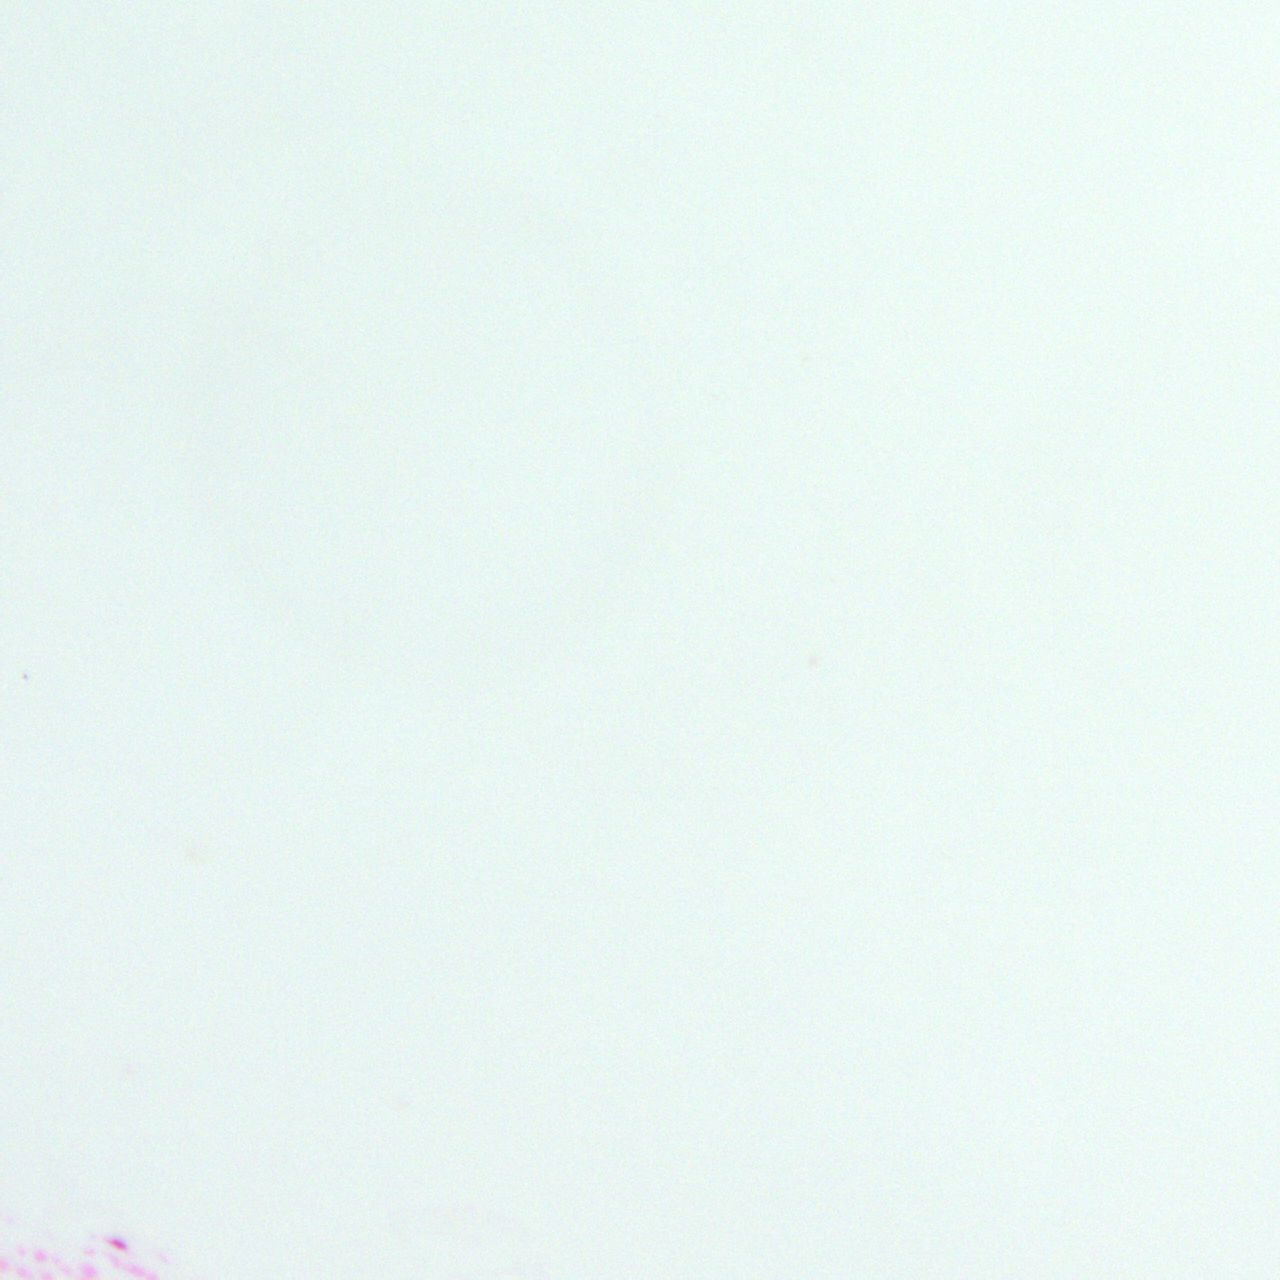dust: (21, 673, 28, 682)
nucleus-FG: (108, 1235, 128, 1251)
